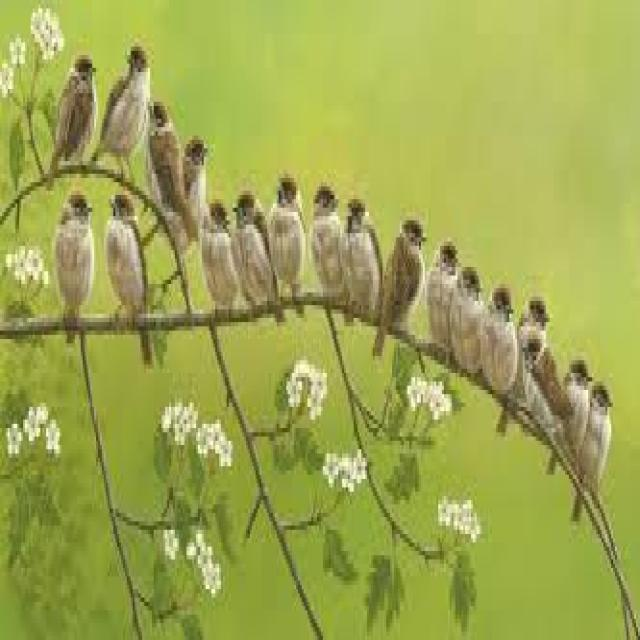bird: (106, 192, 152, 361), (373, 211, 423, 360), (53, 187, 95, 348), (149, 97, 191, 236), (235, 189, 278, 317), (55, 54, 97, 178), (271, 175, 306, 311), (310, 176, 348, 301), (200, 196, 234, 318)
